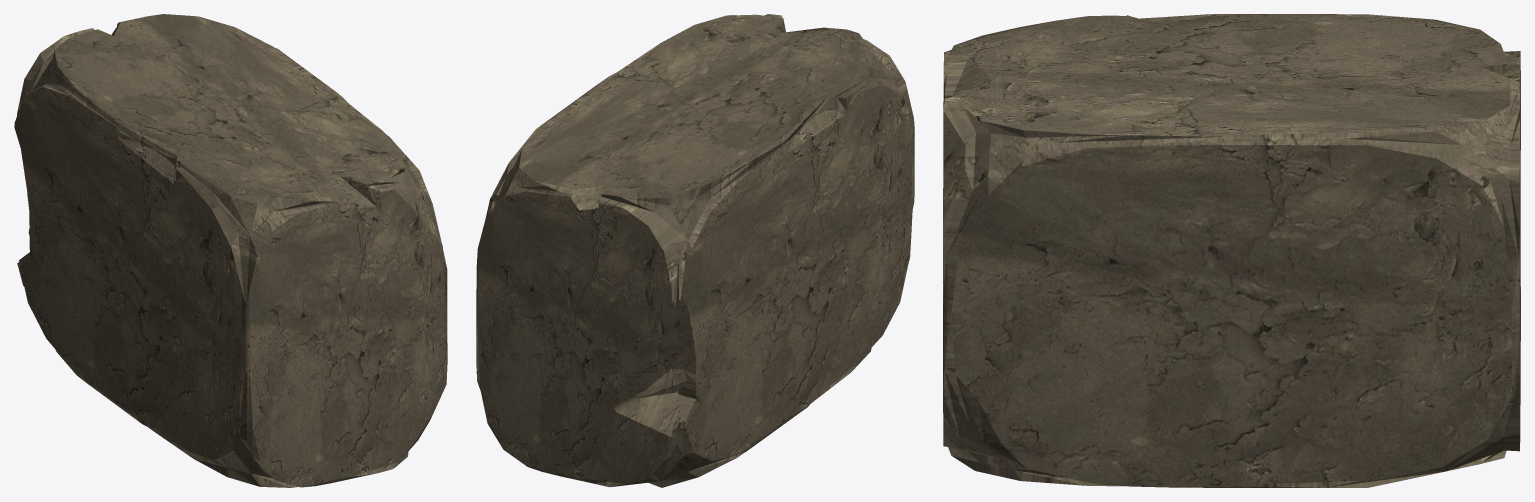
Rendered from stoneblock-extra.obj.
3 views of the same model, side by side, from view 1: azimuth 30°, elevation 25°; view 2: azimuth 150°, elevation 25°; view 3: azimuth 270°, elevation 25° (orthographic). The views are drawn at different scales.
Parts seen in each view (by area): view 1: stoneblock-einzeln; view 2: stoneblock-einzeln; view 3: stoneblock-einzeln.
Part boxes in pixels (x1=…): stoneblock-einzeln: x1=14, y1=14, x2=447, y2=487; stoneblock-einzeln: x1=476, y1=14, x2=914, y2=487; stoneblock-einzeln: x1=943, y1=14, x2=1520, y2=487.
Size of the model in its own units: 0.3339 by 0.4524 by 0.6651.
